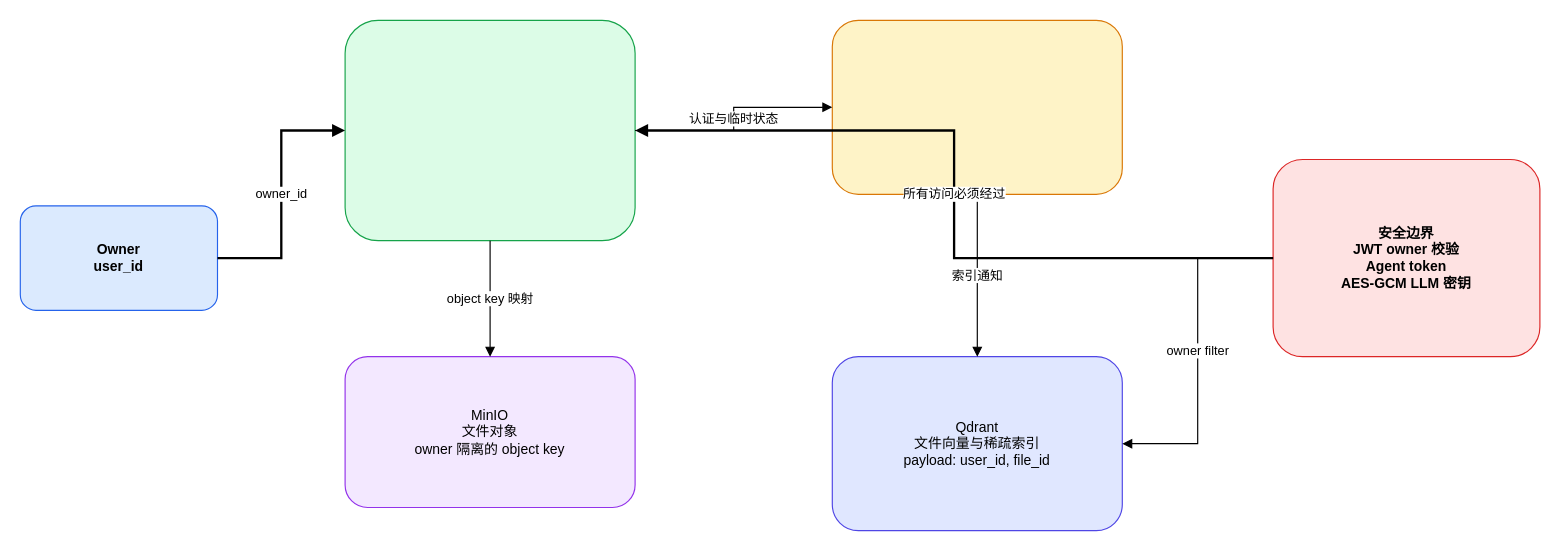
The diagram is 1560 pixels wide and 551 high, and some of its shapes have lost their labels. The centre of each missing label's shape, as x and y in pixels:
MySQL 元数据 users folders / files shares / llm_configs: [489,130]
Redis 缓存 / 黑名单 multipart / index queue: [976,106]
